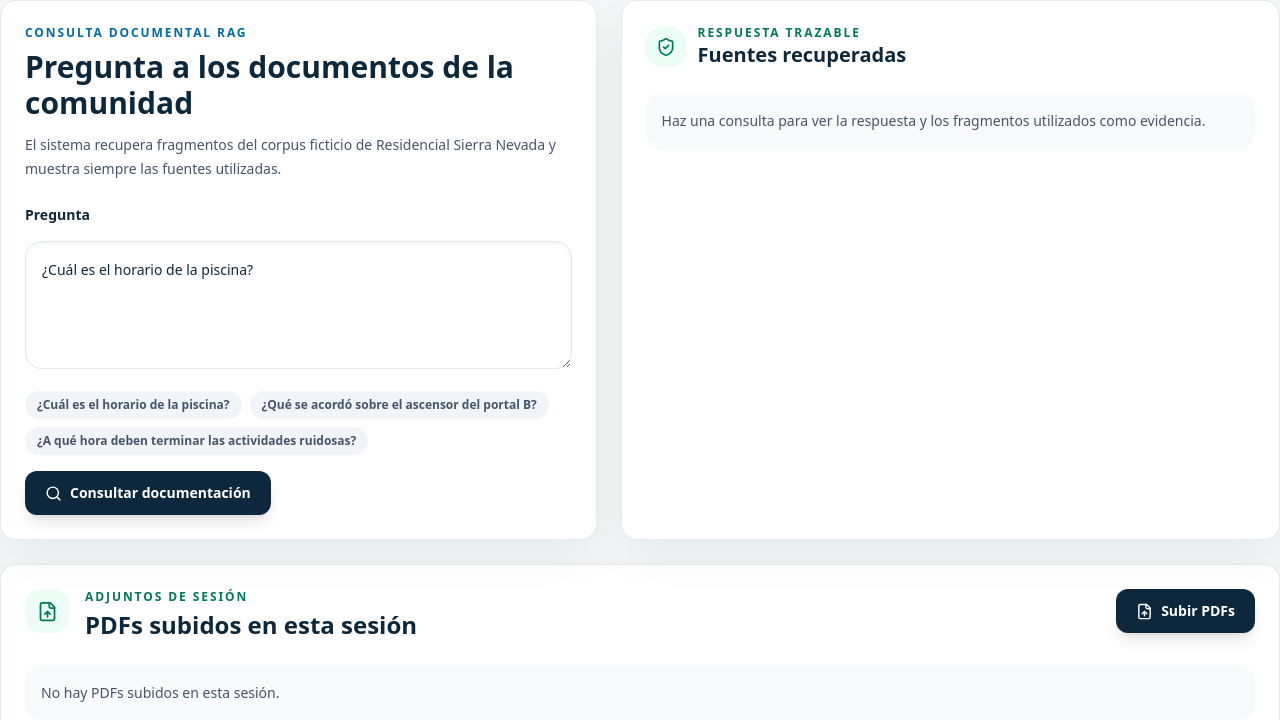
Test: DocumentQueryPanel › muestra el modo semantico cuando la API usa pgvector
Click the button "Consultar documentación" at (148, 493), box [25, 471, 271, 515]
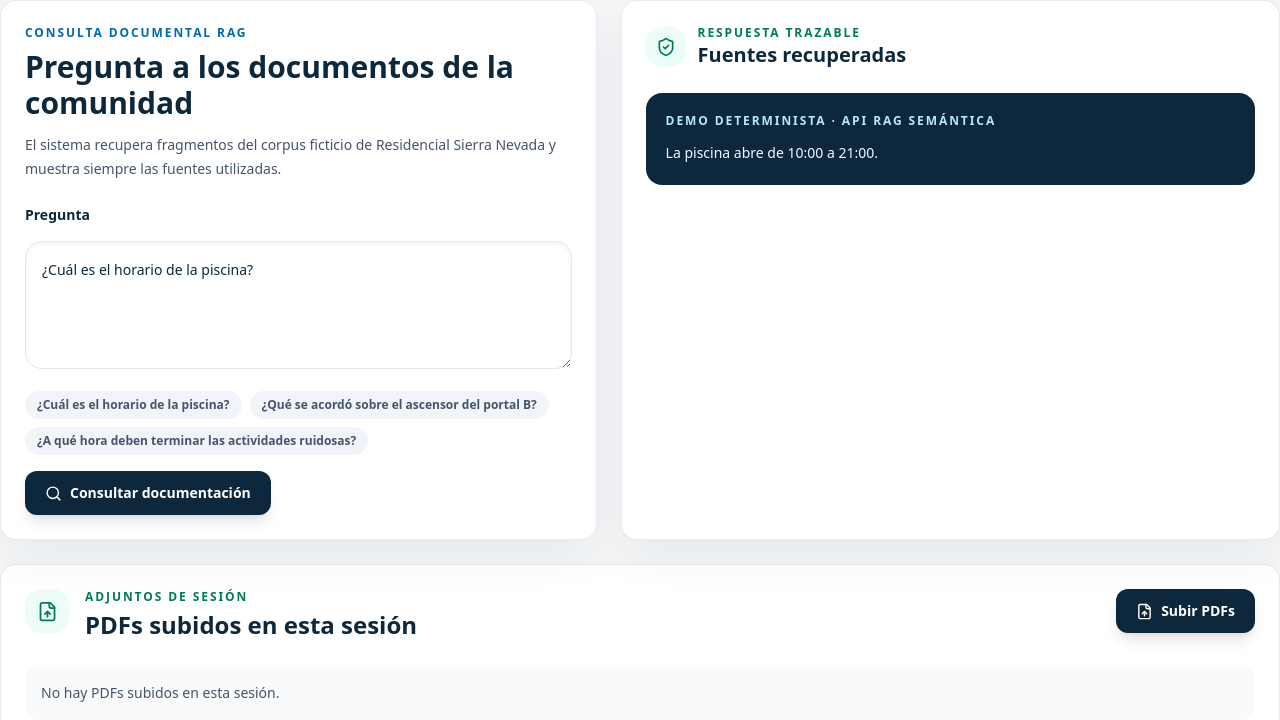
Now the text "Demo determinista · API RAG semántica" is shown, box [666, 112, 996, 129]
